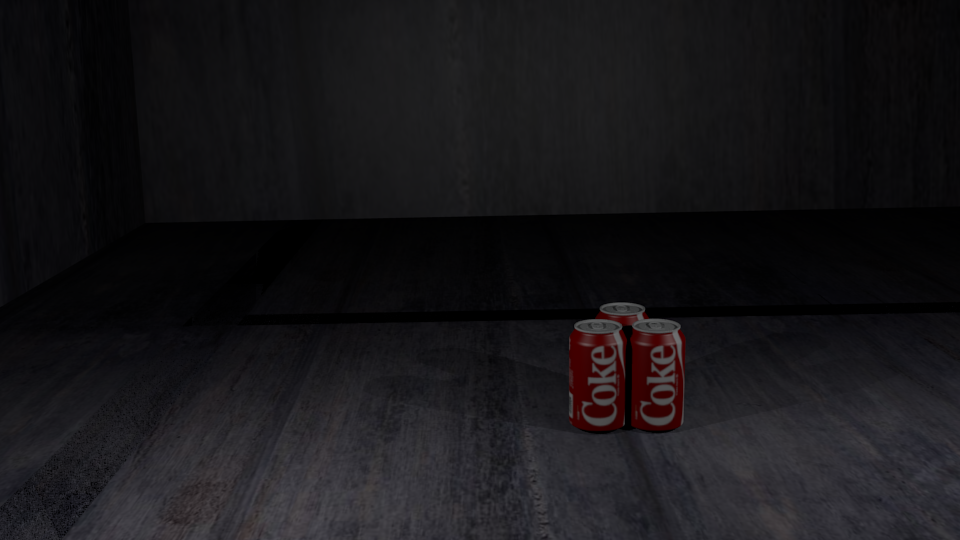cola_can: (569, 320, 626, 428), (627, 319, 684, 427), (595, 303, 649, 406)
